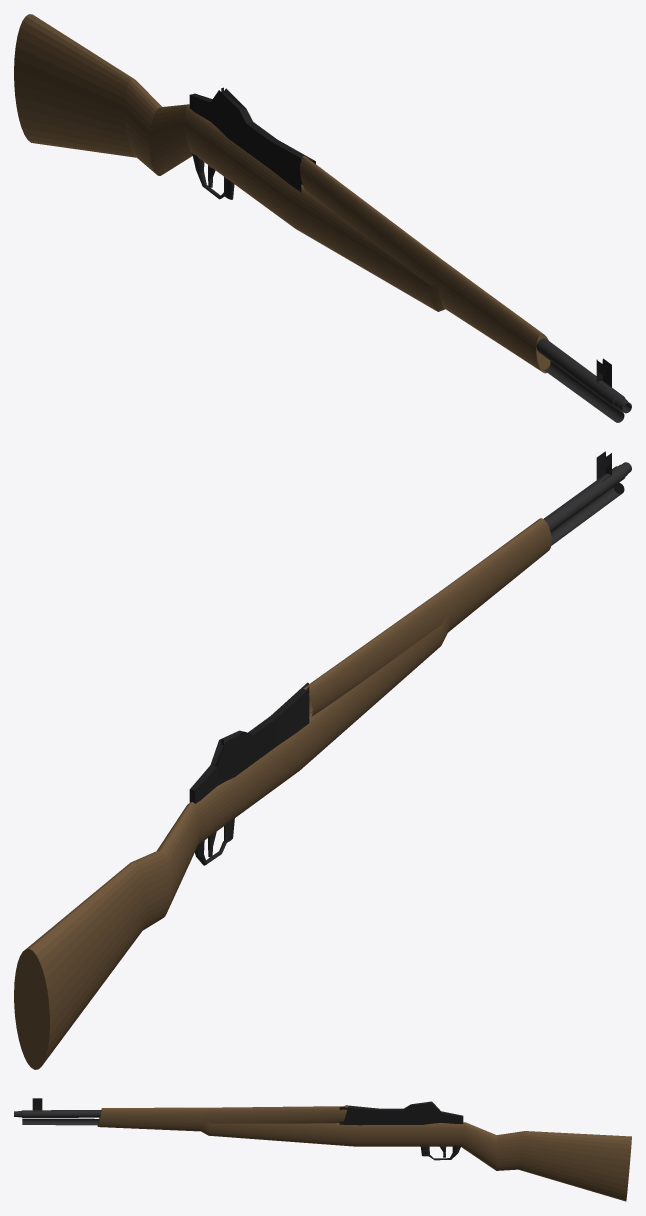
The model's file is M1 grand.fbx.
The picture shows the model from 3 angles, top to bottom: view 1: azimuth 30°, elevation 25°; view 2: azimuth 150°, elevation 25°; view 3: azimuth 270°, elevation 25°; orthographic projection. The views are drawn at different scales.
Parts seen in each view (by area): view 1: Cube.001; view 2: Cube.001; view 3: Cube.001.
Boxes of the visible parts, x1,y1,x2,y2 form: Cube.001: (14, 14, 631, 422); Cube.001: (14, 451, 631, 1069); Cube.001: (14, 1098, 631, 1201).
Size of the model in its own units: 17.69 by 93.92 by 514.
